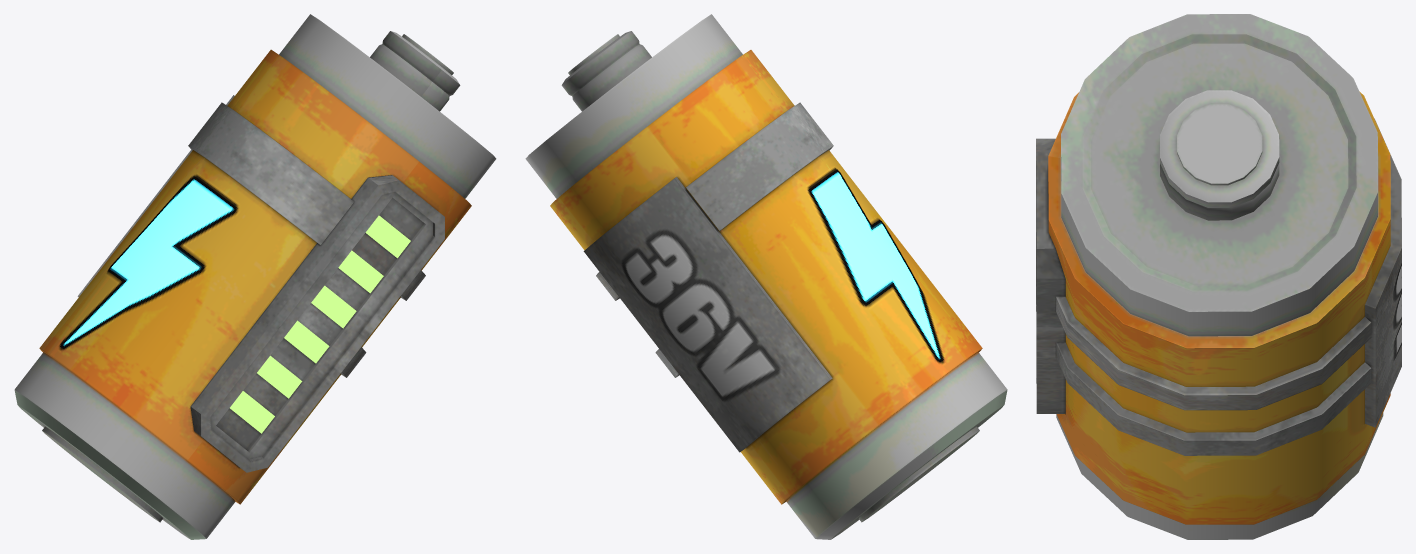
File: battery1.glb
The picture shows the model from 3 angles, left to right: view 1: azimuth 30°, elevation 25°; view 2: azimuth 150°, elevation 25°; view 3: azimuth 270°, elevation 25°; orthographic projection. The views are drawn at different scales.
Visible parts, largest first — view 1: battery1_PICKUP; view 2: battery1_PICKUP; view 3: battery1_PICKUP.
Boxes of the visible parts, box(x1,y1,x2,y2) form: battery1_PICKUP: box(14, 14, 496, 539); battery1_PICKUP: box(525, 14, 1007, 539); battery1_PICKUP: box(1036, 14, 1401, 539).
Bounding box in the file's own units: 0.5205 × 0.5205 × 0.2763.
1 material, 1 textured.
